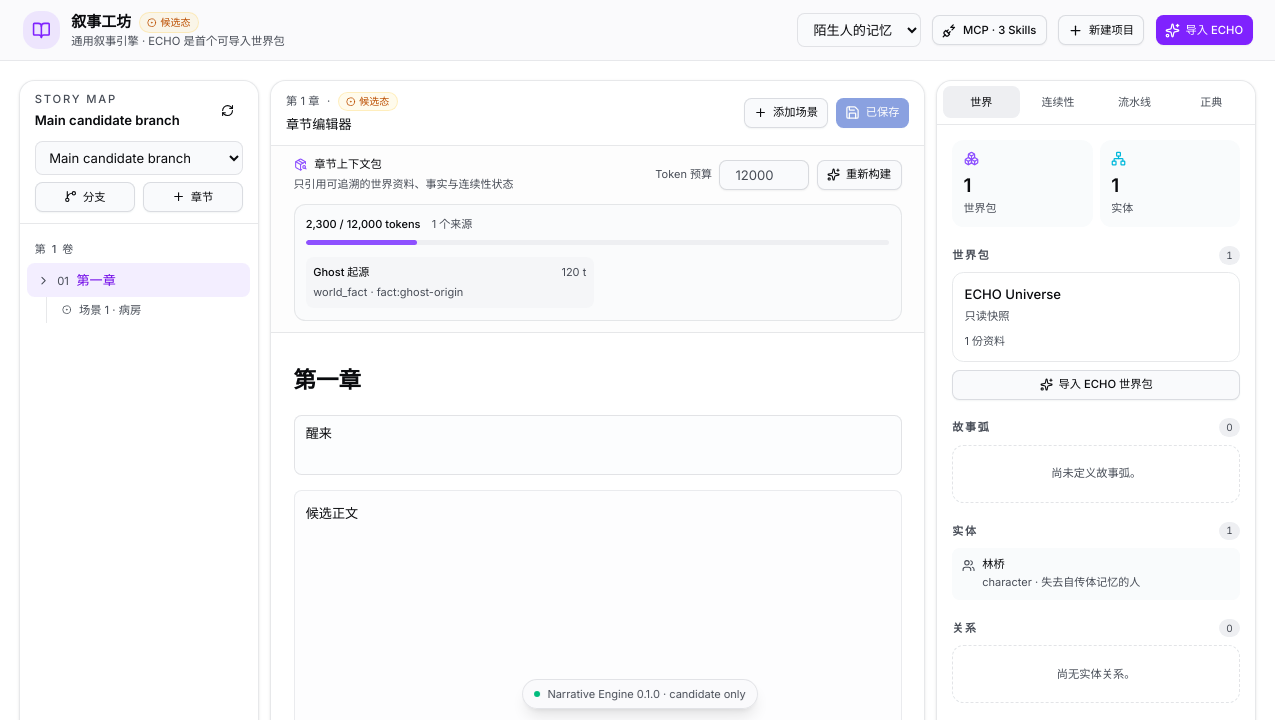
NarrativePage › keeps a failed AI stage visible and does not submit it
Expected: the field showing "第一章" is shown, [294,356,902,404]
Click the button "流水线" at coordinates (1135, 102), box [1096,86,1173,118]
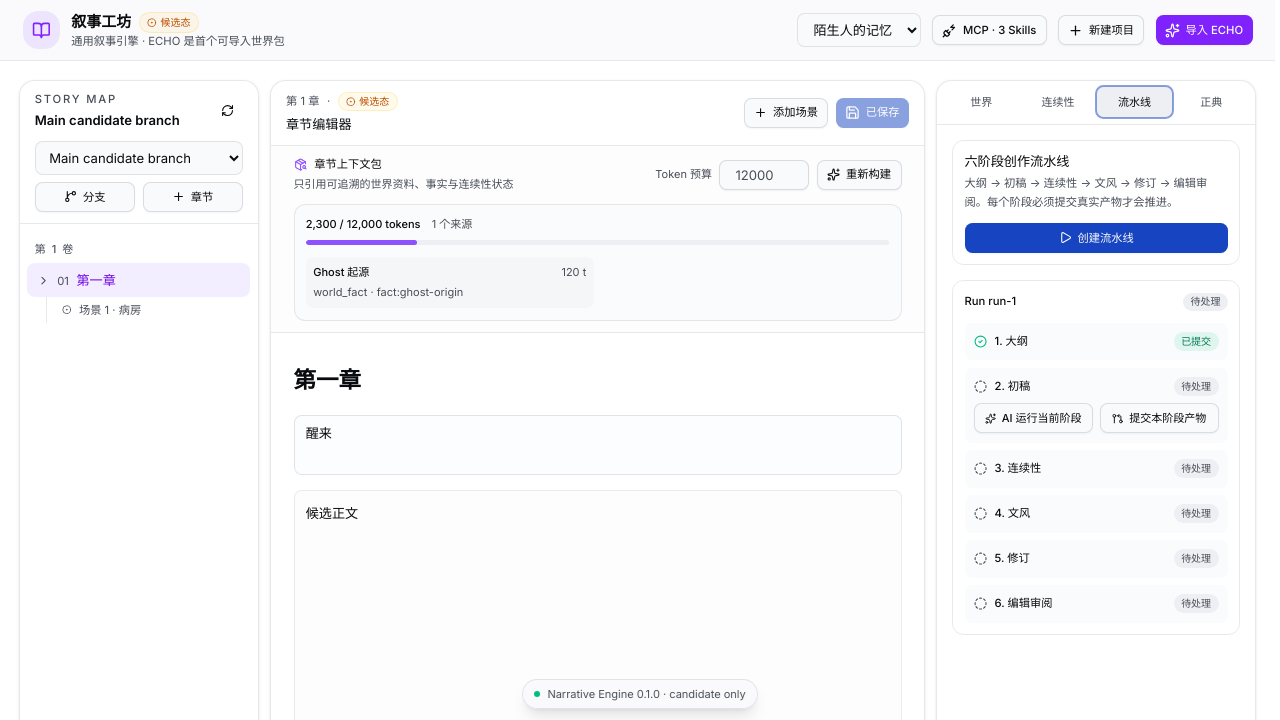
Click the button "AI 运行当前阶段" at coordinates (1033, 418), box [974,403,1092,433]
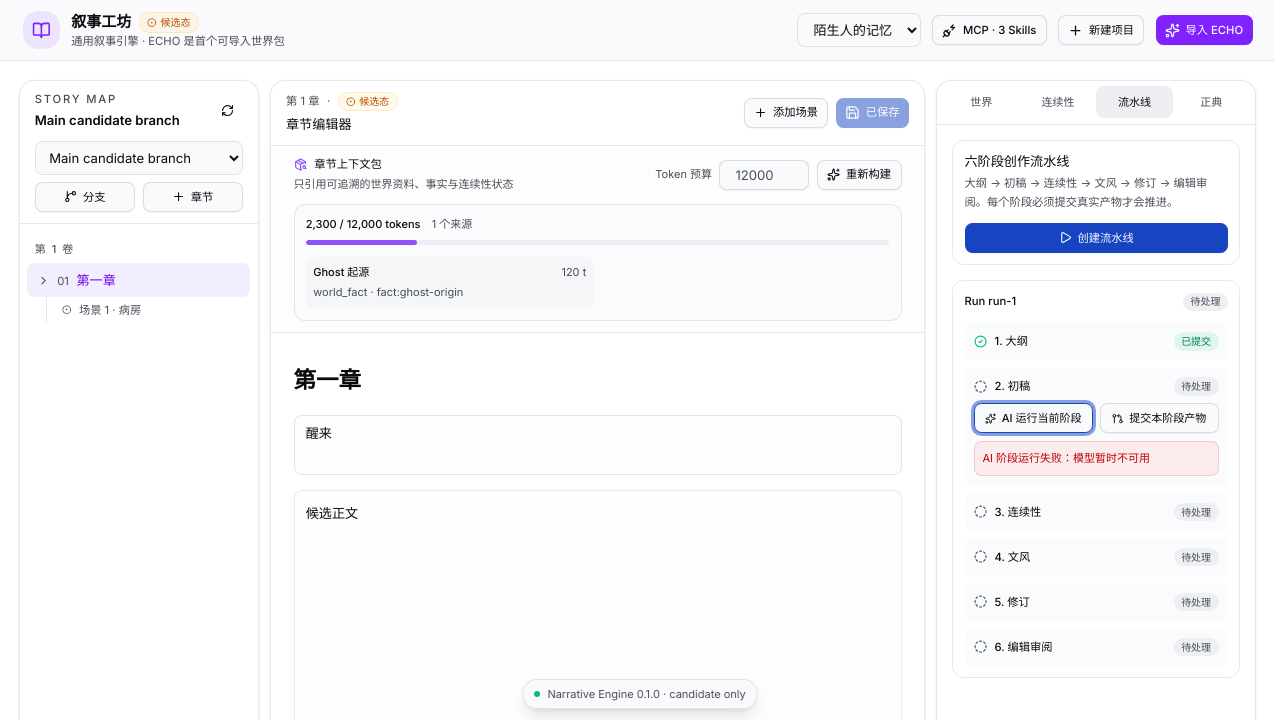
Result: the text "AI 阶段运行失败：模型暂时不可用" is shown at [974,441,1219,476]
